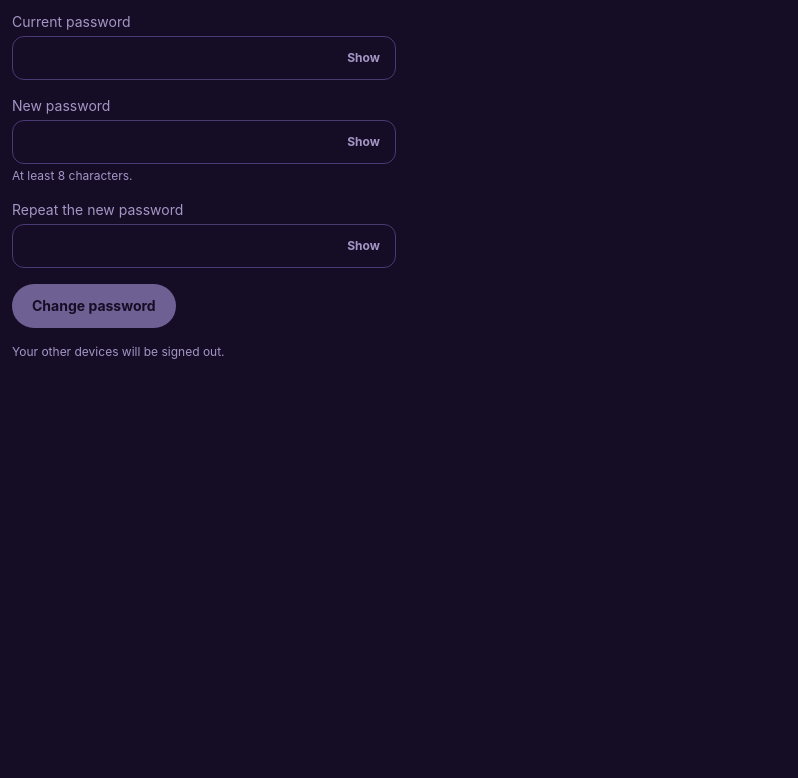
it: PasswordForm › sends the change and clears the fields
Type "password123" into the password field labelled "Current password".
click(204, 58); type("password123")  # box [12,36,396,80]
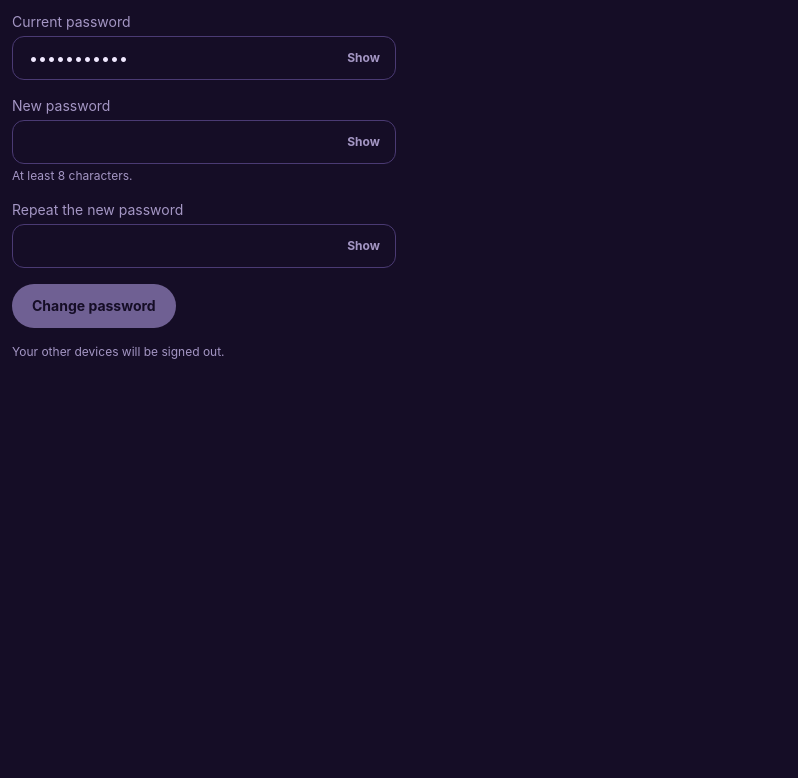
Type "a-brand-new-one" into the password field labelled "New password".
click(204, 142); type("a-brand-new-one")  # box [12,120,396,164]
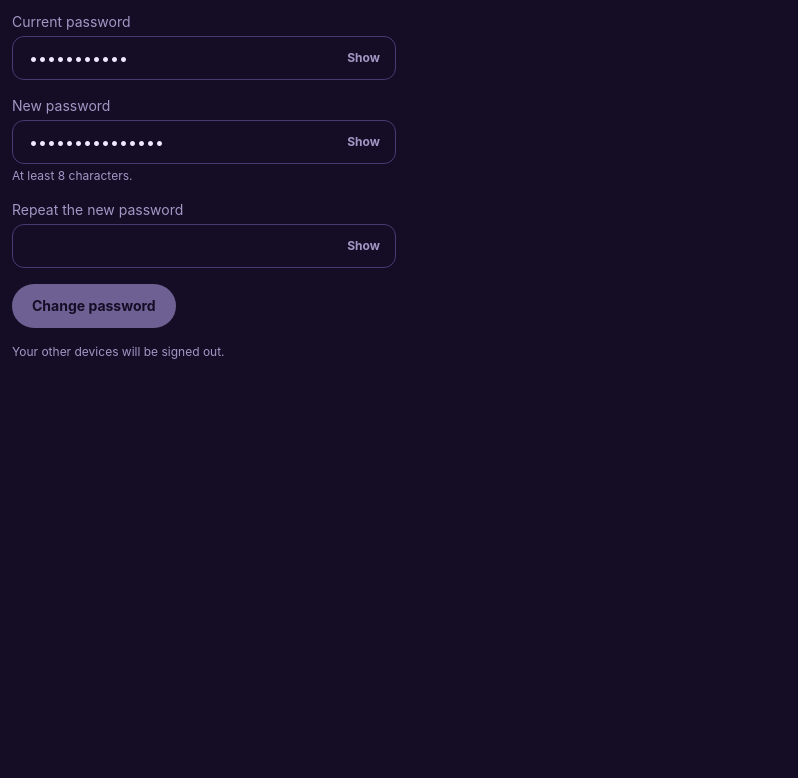
Type "a-brand-new-one" into the password field labelled "Repeat the new password".
click(204, 246); type("a-brand-new-one")  # box [12,224,396,268]
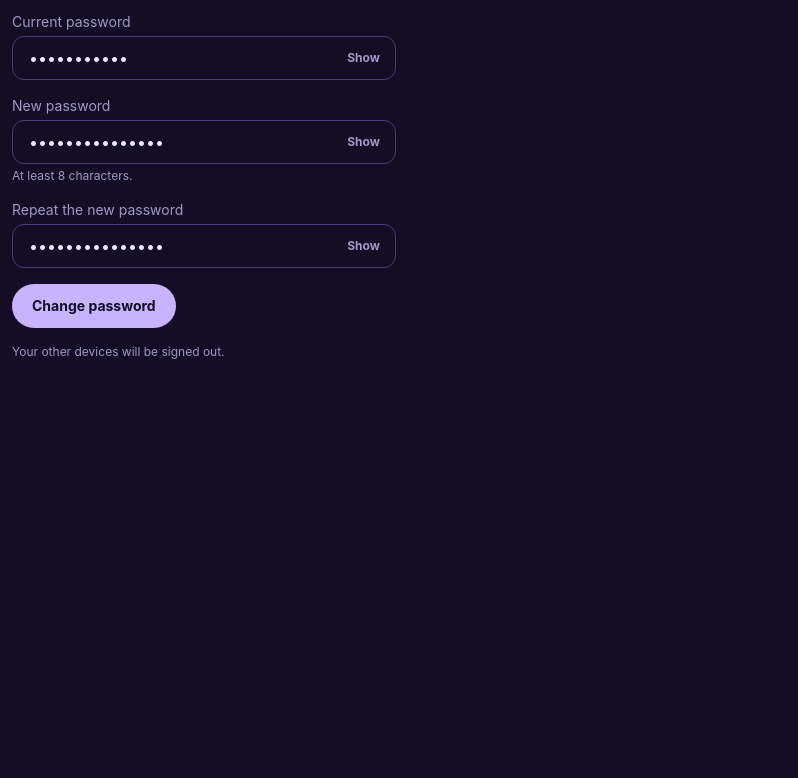
Click the button "Change password".
click(94, 306)  # box [12,284,176,328]
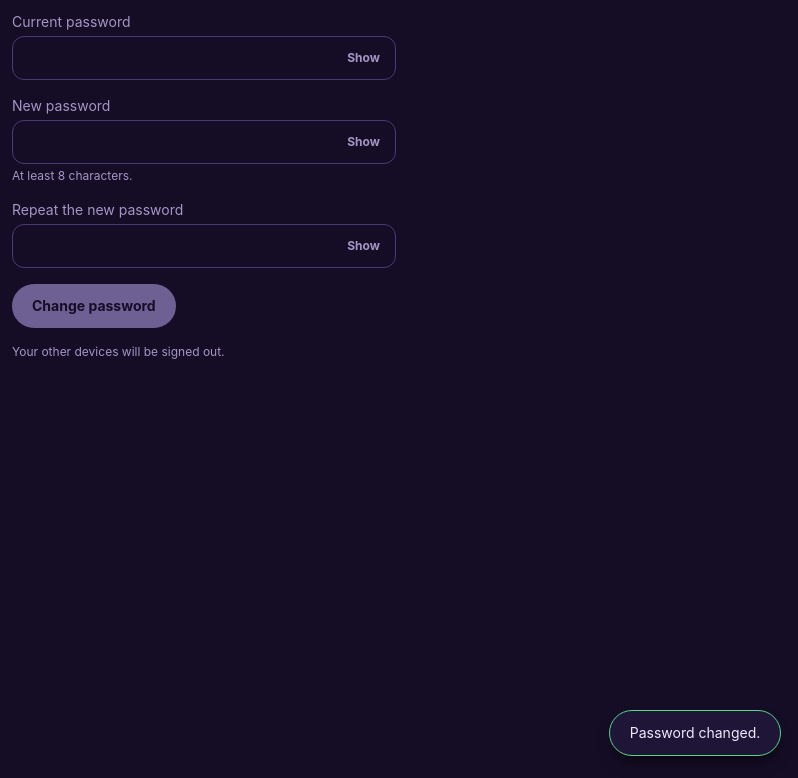
Now the text "Password changed." is shown, box [609,710,781,756]
Now the password field labelled "Current password" is empty, box [12,36,396,80]
